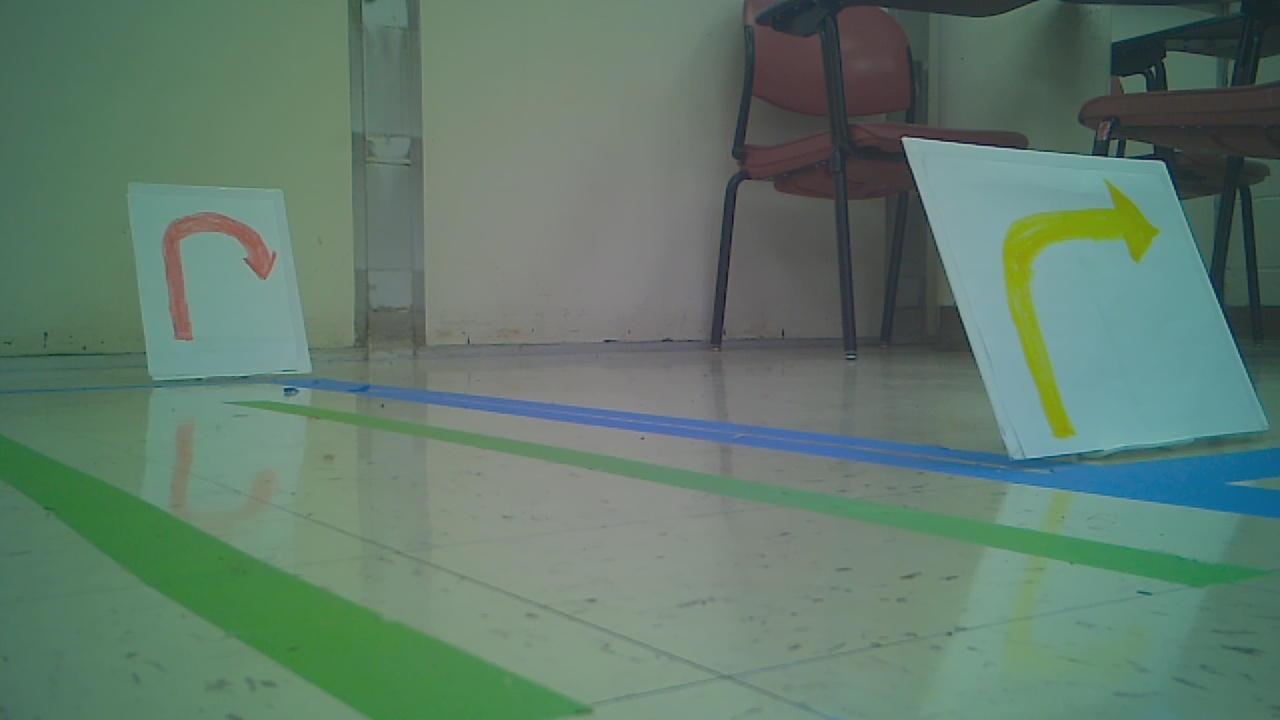greenline: (229, 402, 1225, 585), (1, 434, 586, 714)
right: (996, 181, 1166, 441)
uturn: (159, 212, 279, 338)
